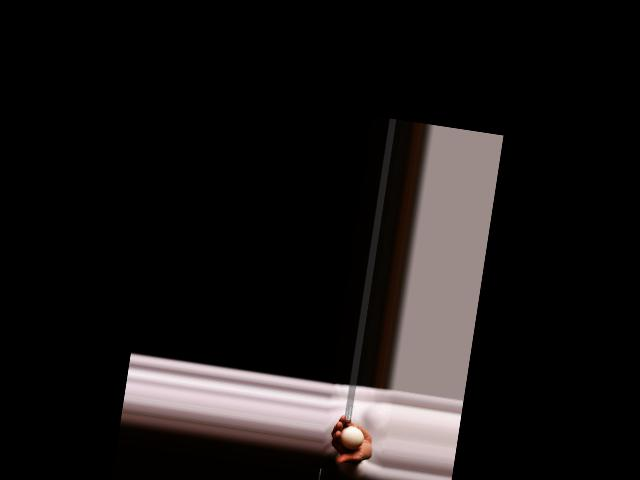egg: (338, 424, 364, 450)
